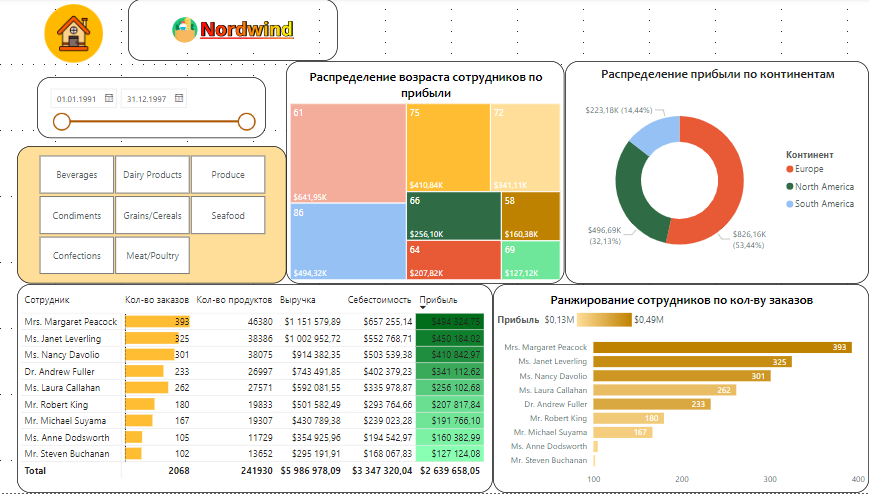

Layout of this report page (visuals, bound fields, positions):
{"tool":"powerbi","page":{"name":"Сотрудники","canvas":[1280,720],"ordinal":4},"visuals":[{"type":"image","box":[201.7,1.7,305,90],"z":0},{"type":"treemap","title":"Распределение возраста сотрудников по прибыли","fields":{"Values":["orders_details_all.Total_Profit"],"Group":["public employees.Age"]},"box":[432.7,91.8,404.9,324.2],"z":1000},{"type":"donutChart","title":"Распределение прибыли по континентам","fields":{"Y":["orders_details_all.Total_Profit"],"Category":["orders_all.Continent"]},"box":[837.6,91.8,442.4,324.2],"z":2000},{"type":"pivotTable","fields":{"Values":["orders_details_all.Order_Cases_Dist","Sum(orders_details_all.quantity)","orders_details_all.Revenue","orders_details_all.Total_Cost","orders_details_all.Total_Profit"],"Rows":["public employees.full_name"]},"box":[40.7,416,692.4,304],"z":3000},{"type":"barChart","title":"Ранжирование сотрудников по кол-ву заказов","fields":{"Y":["orders_details_all.Order_Cases_Dist"],"Category":["public employees.full_name"]},"box":[733.1,416,546.9,304],"z":4000},{"type":"slicer","fields":{"Values":["public categories.category_name"]},"box":[40.3,215.7,392.3,200.3],"z":5000},{"type":"slicer","fields":{"Values":["Calendar.Date"]},"box":[69.6,115.5,332.5,89],"z":6000},{"type":"image","box":[75.6,0,94.5,103.3],"z":7000}]}

Visuals, with their boxes in screenshot pixels (x1, y1, x2, y2), scaled from the page's 1280x720 canvas onto the 869x494 screenshot:
image: [left=137, top=1, right=344, bottom=63]
"Распределение возраста сотрудников по прибыли" treemap: [left=294, top=63, right=569, bottom=285]
"Распределение прибыли по континентам" donutChart: [left=569, top=63, right=868, bottom=285]
pivotTable - orders_details_all.Order_Cases_Dist x Sum(orders_details_all.quantity): [left=28, top=285, right=498, bottom=493]
"Ранжирование сотрудников по кол-ву заказов" barChart: [left=498, top=285, right=868, bottom=493]
slicer - public categories.category_name: [left=27, top=148, right=294, bottom=285]
slicer - Calendar.Date: [left=47, top=79, right=273, bottom=140]
image: [left=51, top=0, right=115, bottom=71]
